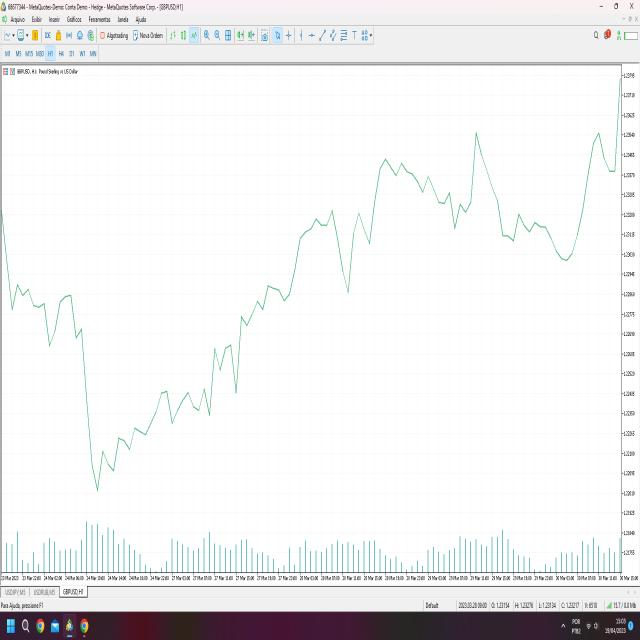bandeira_baixa: (69, 285, 138, 502)
